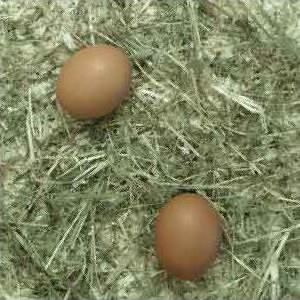egg: (154, 193, 221, 280), (57, 45, 131, 121)
